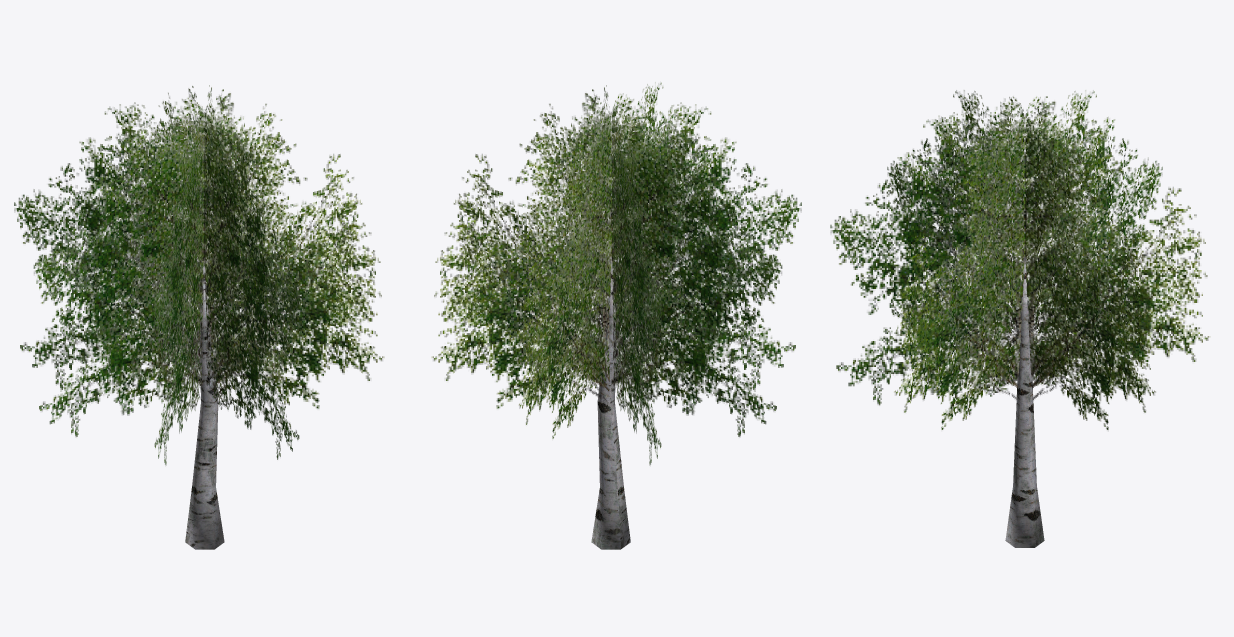
File: psx_birch_tree.glb
3 renders of one model, left to right at view 1: azimuth 30°, elevation 25°; view 2: azimuth 150°, elevation 25°; view 3: azimuth 270°, elevation 25°, orthographic.
Visible parts, largest first — view 1: birch-2; view 2: birch-2; view 3: birch-2.
Boxes of the visible parts, x1,y1,x2,y2 form: birch-2: [14, 85, 384, 549]; birch-2: [431, 82, 801, 549]; birch-2: [830, 90, 1210, 547].
Bounding box in the file's own units: 16.14 × 20.32 × 16.14.
2 materials, 2 textured.
